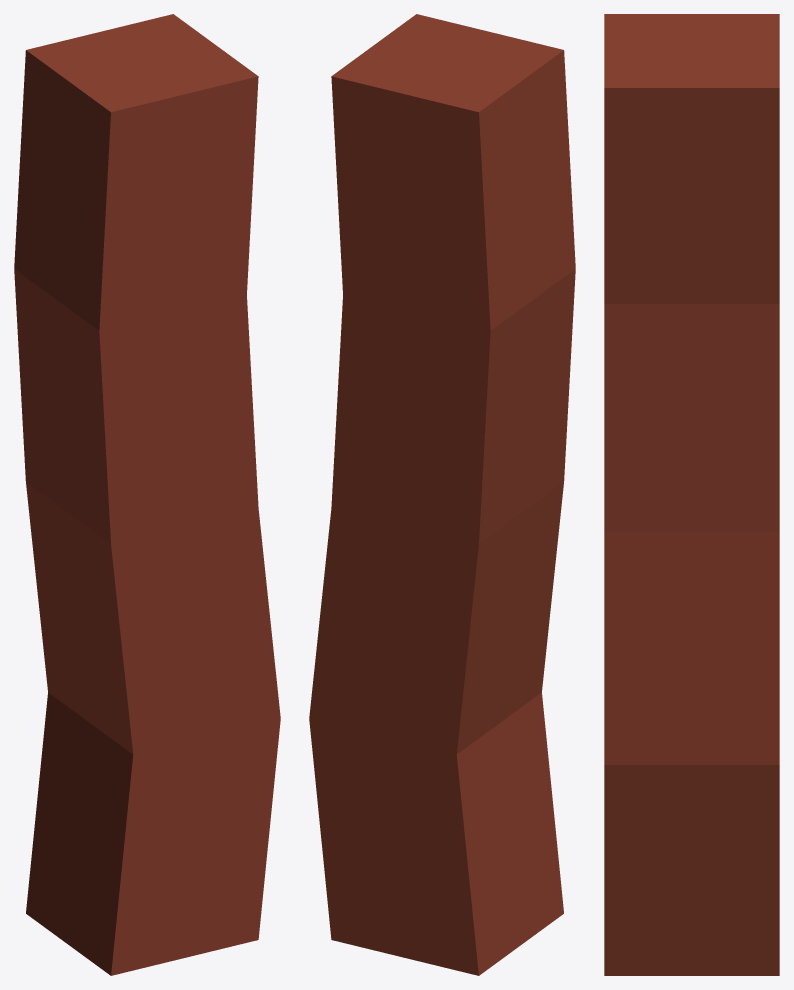
File: wood_2a.fbx
3 views of the same model, side by side, from view 1: azimuth 30°, elevation 25°; view 2: azimuth 150°, elevation 25°; view 3: azimuth 270°, elevation 25° (orthographic). The views are drawn at different scales.
Visible parts, largest first — view 1: wood_2a; view 2: wood_2a; view 3: wood_2a.
Boxes of the visible parts, left/top/right/bottom form: wood_2a: left=14, top=14, right=280, bottom=975; wood_2a: left=309, top=14, right=575, bottom=975; wood_2a: left=604, top=14, right=779, bottom=975.
Bounding box in the file's own units: 45.58 × 207 × 37.07.
